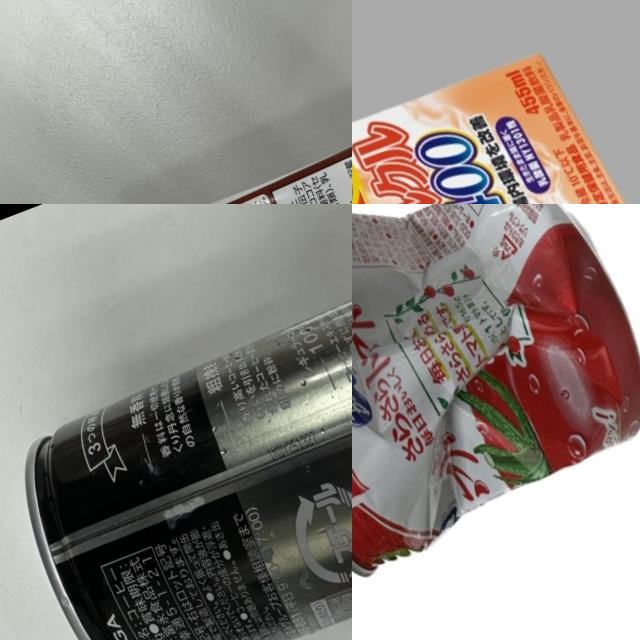Aluminium Foil: (352, 41, 640, 204), (132, 95, 352, 204)
Can: (0, 263, 352, 640), (352, 204, 640, 588)
